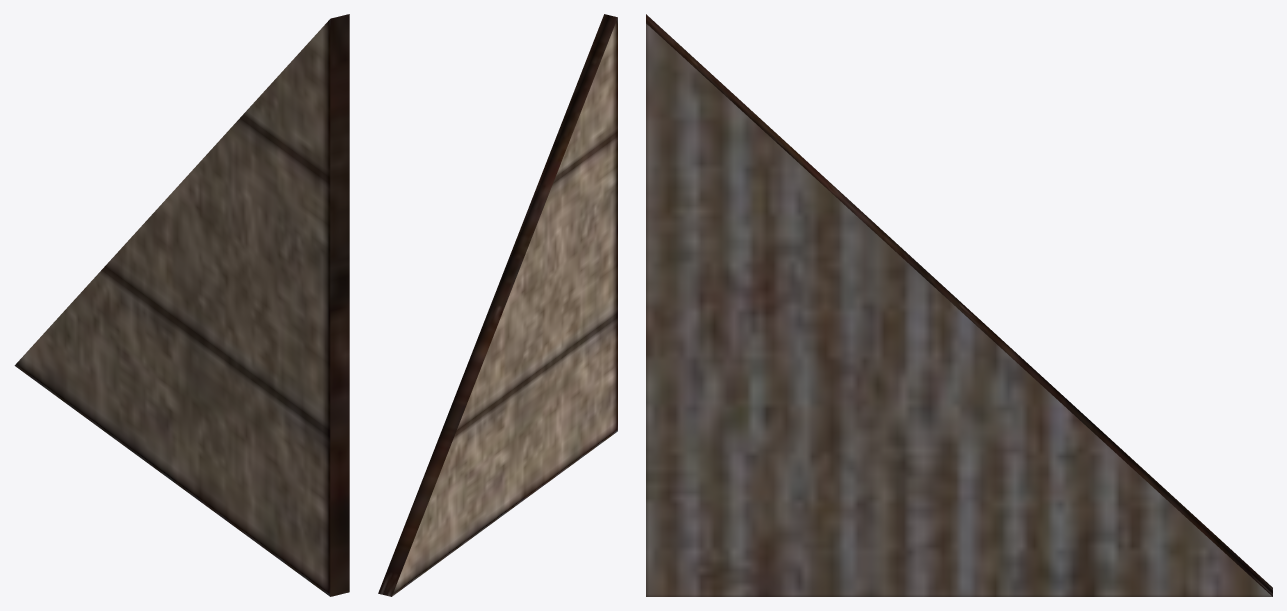
Rendered from metal_roof_wall_textured.glb.
3 views of the same model, side by side, from view 1: azimuth 30°, elevation 25°; view 2: azimuth 150°, elevation 25°; view 3: azimuth 270°, elevation 25° (orthographic). The views are drawn at different scales.
Visible parts, largest first — view 1: Cube.002; view 2: Cube.002; view 3: Cube.002.
Boxes of the visible parts, x1,y1,x2,y2 form: Cube.002: (14,14,349,596); Cube.002: (378,14,617,596); Cube.002: (646,14,1272,596).
Bounding box in the file's own units: 0.0681 × 1.97 × 1.95.
Materials: 1 (1 with a texture image).
